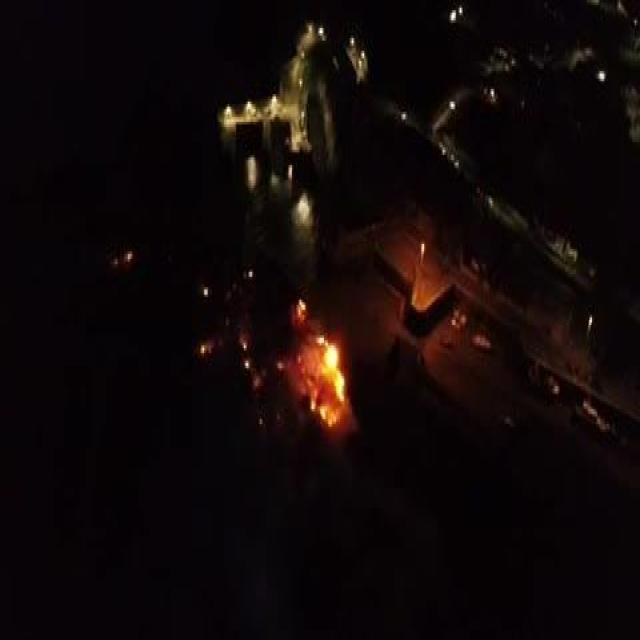Fire: (300, 335, 355, 432)
